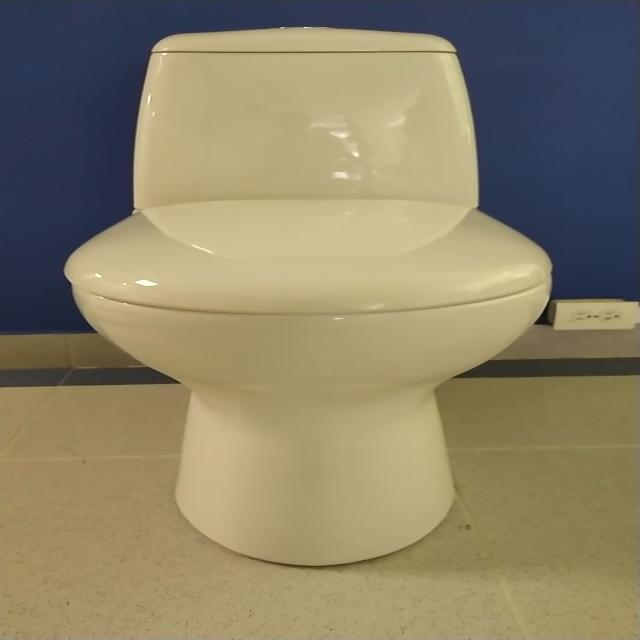toilet: (63, 26, 553, 566)
